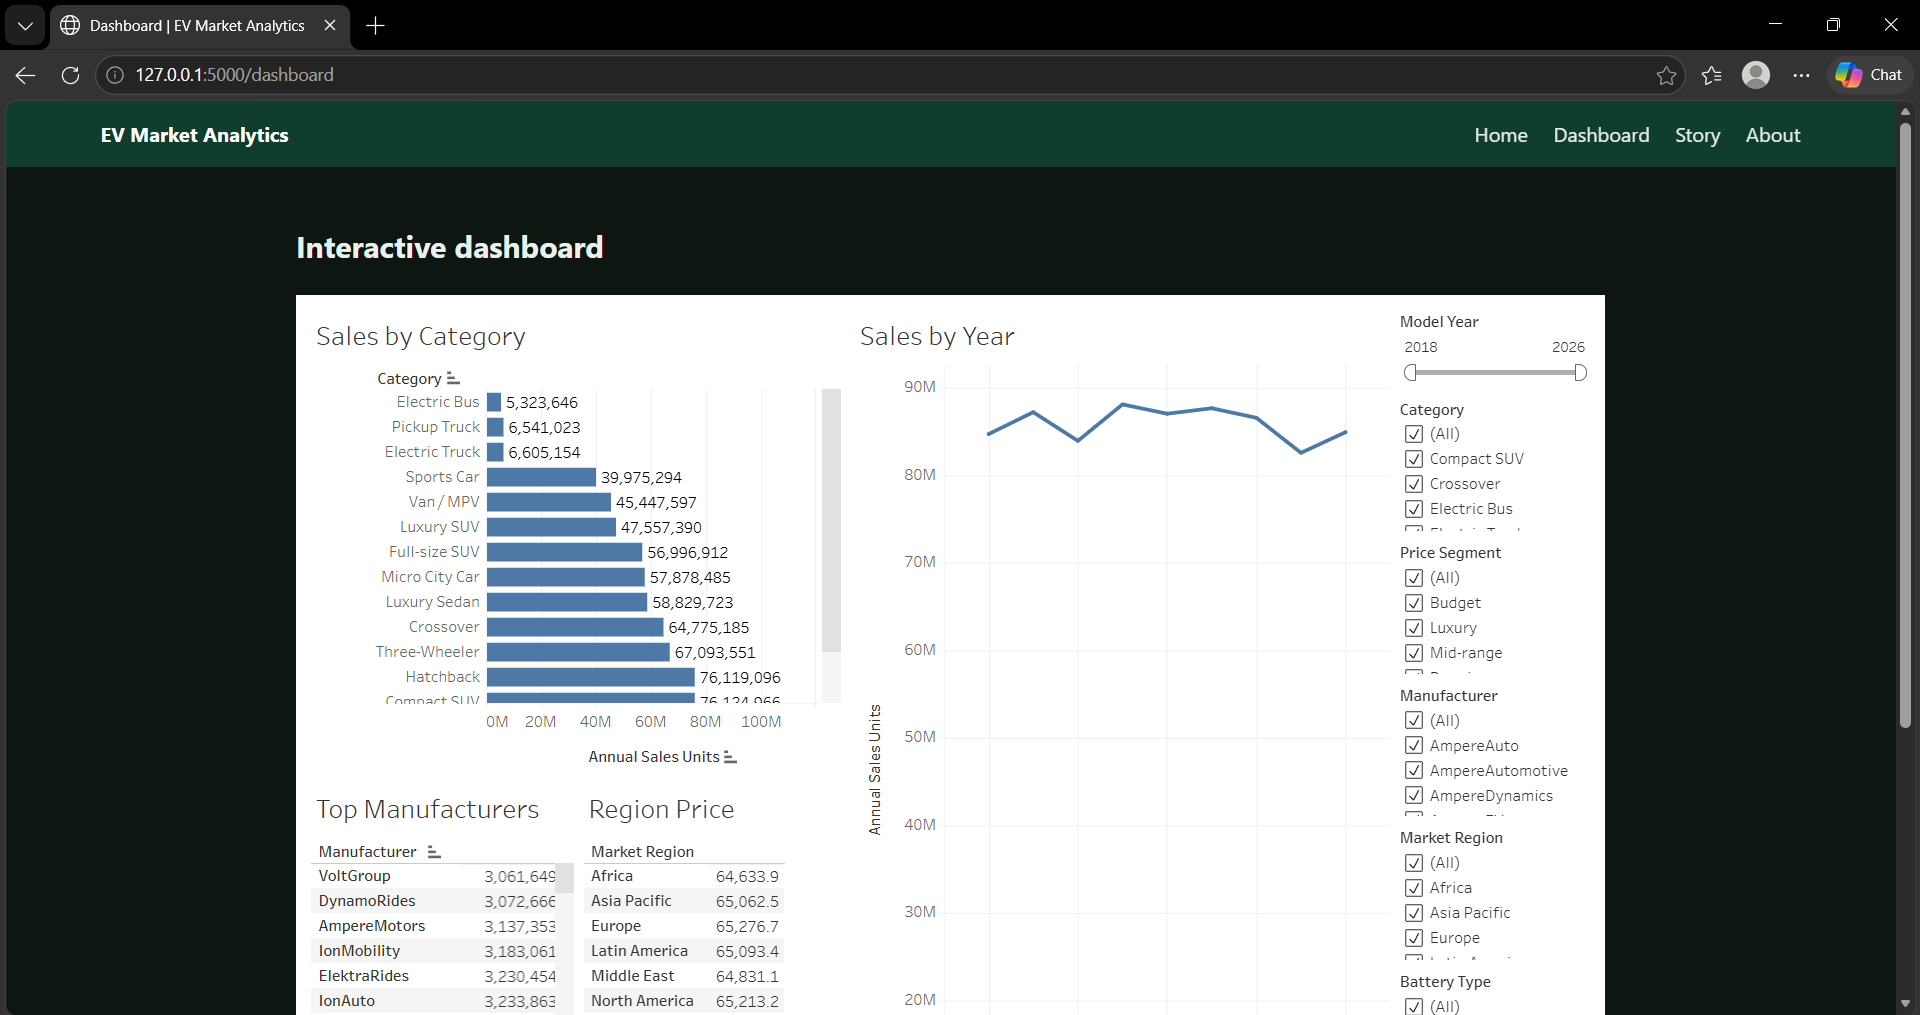

Layout of this report page (visuals, bound fields, positions):
{"tool":"tableau","page":{"name":"Market Overview","canvas":[1000,1000],"units":"permille","ordinal":1},"visuals":[{"type":"worksheet","title":"Sales by Category","mark":"Automatic","rows":["category"],"cols":["annual_sales_units"],"box":[6.1,13.9,433,486.1]},{"type":"worksheet","title":"Sales by Year","mark":"Automatic","rows":["annual_sales_units"],"cols":["model_year"],"box":[439.1,13.9,433,972.1]},{"type":"filter","title":"Sales by Category","param":"[federated.1wvw2m11oqn5wt1emokjp1gj5ilh].[none:model_year:qk]","box":[872.1,13.9,121.9,122]},{"type":"filter","title":"Sales by Category","param":"[federated.1wvw2m11oqn5wt1emokjp1gj5ilh].[none:category:nk]","box":[872.1,135.9,121.9,141.7]},{"type":"filter","title":"Sales by Category","param":"[federated.1wvw2m11oqn5wt1emokjp1gj5ilh].[none:Calculation_0014765179060239:nk]","box":[872.1,277.6,121.9,141.7]},{"type":"filter","title":"Sales by Category","param":"[federated.1wvw2m11oqn5wt1emokjp1gj5ilh].[none:manufacturer:nk]","box":[872.1,419.3,121.9,141.7]},{"type":"worksheet","title":"Top Manufacturers","mark":"Automatic","rows":["manufacturer"],"box":[6.1,500,216.5,486.1]},{"type":"worksheet","title":"Region Price","mark":"Automatic","rows":["market_region"],"box":[222.6,500,216.5,486.1]},{"type":"filter","title":"Sales by Category","param":"[federated.1wvw2m11oqn5wt1emokjp1gj5ilh].[none:market_region:nk]","box":[872.1,561,121.9,141.7]},{"type":"filter","title":"Sales by Category","param":"[federated.1wvw2m11oqn5wt1emokjp1gj5ilh].[none:battery_type:nk]","box":[872.1,702.6,121.9,141.7]},{"type":"filter","title":"Sales by Year","param":"[federated.1wvw2m11oqn5wt1emokjp1gj5ilh].[none:battery_type:nk]","box":[872.1,844.3,121.9,141.7]}]}

Visuals, with their boxes on the dashboard's canvas, which has no fixed pixel size, in thousandths of its width and height (x1, y1, x2, y2). These are canvas units, not pixel positions in the 1920x1015 screenshot, which may show the page scaled, cropped or inside an application window:
"Sales by Category" worksheet: [x1=6, y1=14, x2=439, y2=500]
"Sales by Year" worksheet: [x1=439, y1=14, x2=872, y2=986]
"Sales by Category" filter: [x1=872, y1=14, x2=994, y2=136]
"Sales by Category" filter: [x1=872, y1=136, x2=994, y2=278]
"Sales by Category" filter: [x1=872, y1=278, x2=994, y2=419]
"Sales by Category" filter: [x1=872, y1=419, x2=994, y2=561]
"Top Manufacturers" worksheet: [x1=6, y1=500, x2=223, y2=986]
"Region Price" worksheet: [x1=223, y1=500, x2=439, y2=986]
"Sales by Category" filter: [x1=872, y1=561, x2=994, y2=703]
"Sales by Category" filter: [x1=872, y1=703, x2=994, y2=844]
"Sales by Year" filter: [x1=872, y1=844, x2=994, y2=986]
